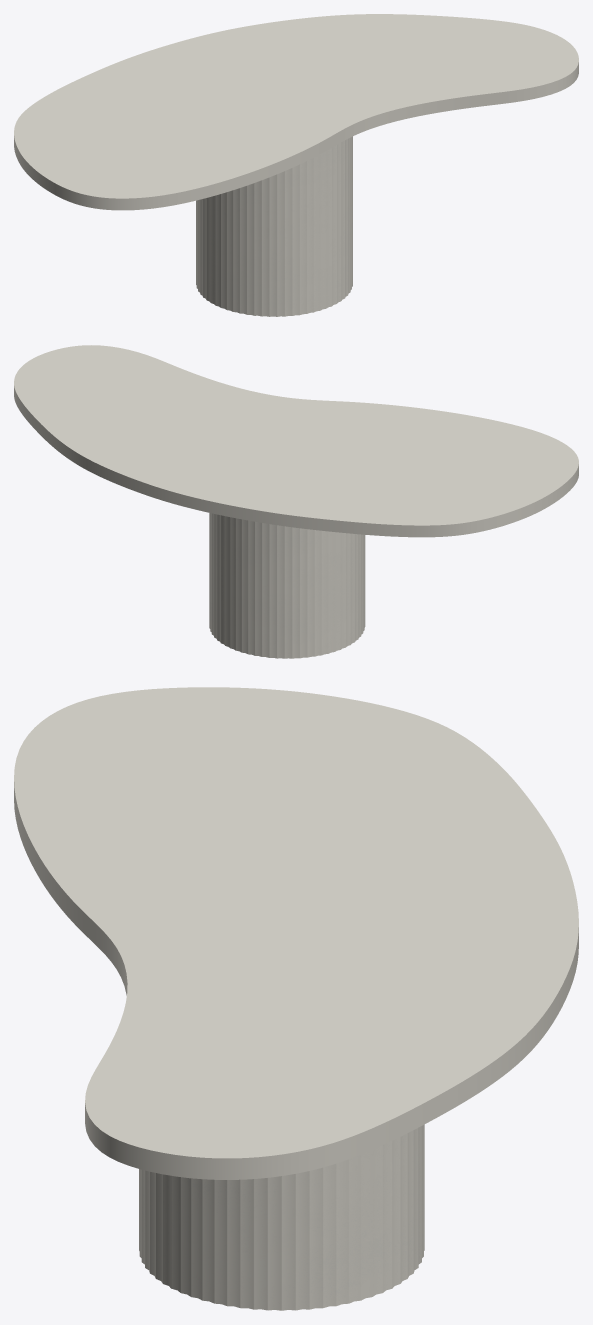
File: pale_leaf1_standard_ripple.glb
3 renders of one model, top to bottom at view 1: azimuth 30°, elevation 25°; view 2: azimuth 150°, elevation 25°; view 3: azimuth 270°, elevation 25°, orthographic. The views are drawn at different scales.
Visible parts, largest first — view 1: standard_leaf1, ripple; view 2: standard_leaf1, ripple; view 3: standard_leaf1, ripple.
Part boxes in pixels (x1,y1,x2,y2): standard_leaf1: (14, 14, 578, 210); ripple: (196, 136, 352, 316); standard_leaf1: (14, 345, 578, 537); ripple: (209, 513, 365, 658); standard_leaf1: (14, 687, 578, 1179); ripple: (139, 1124, 424, 1310).
Size of the model in its own units: 7.5 by 2.51 by 3.8.
Materials: 1 (1 with a texture image).
